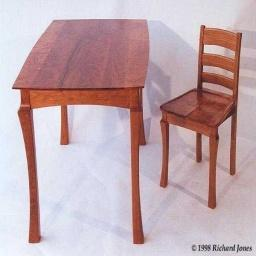Chair: (160, 27, 240, 208)
